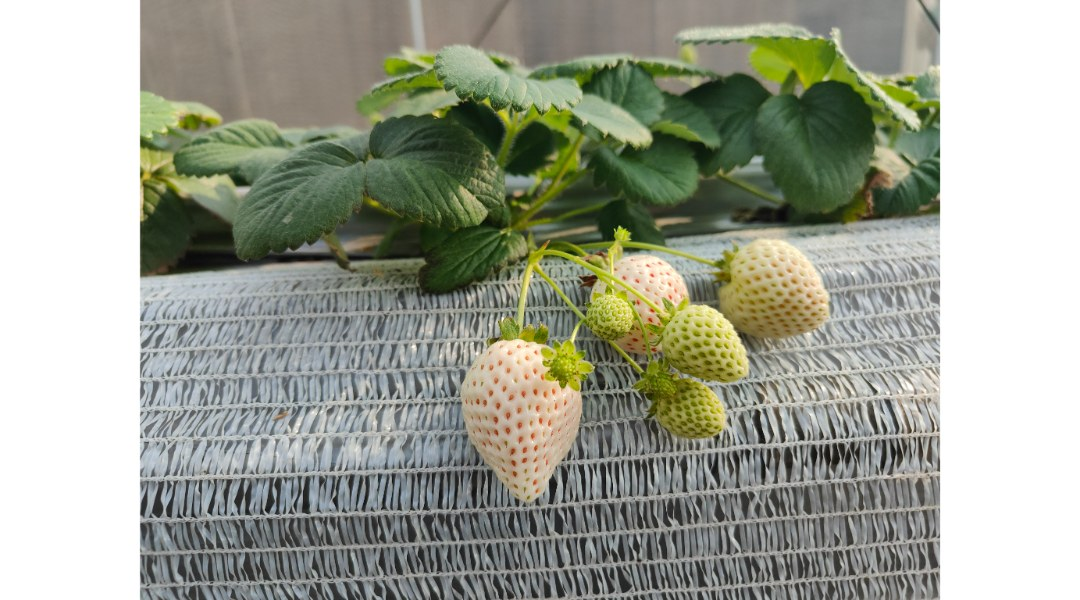berry: (449, 327, 587, 511), (587, 229, 711, 372), (708, 232, 837, 337), (660, 294, 754, 391), (629, 372, 724, 449), (578, 286, 637, 348)
strain: (627, 240, 716, 268), (535, 267, 586, 315), (511, 280, 538, 351), (611, 344, 649, 385)
